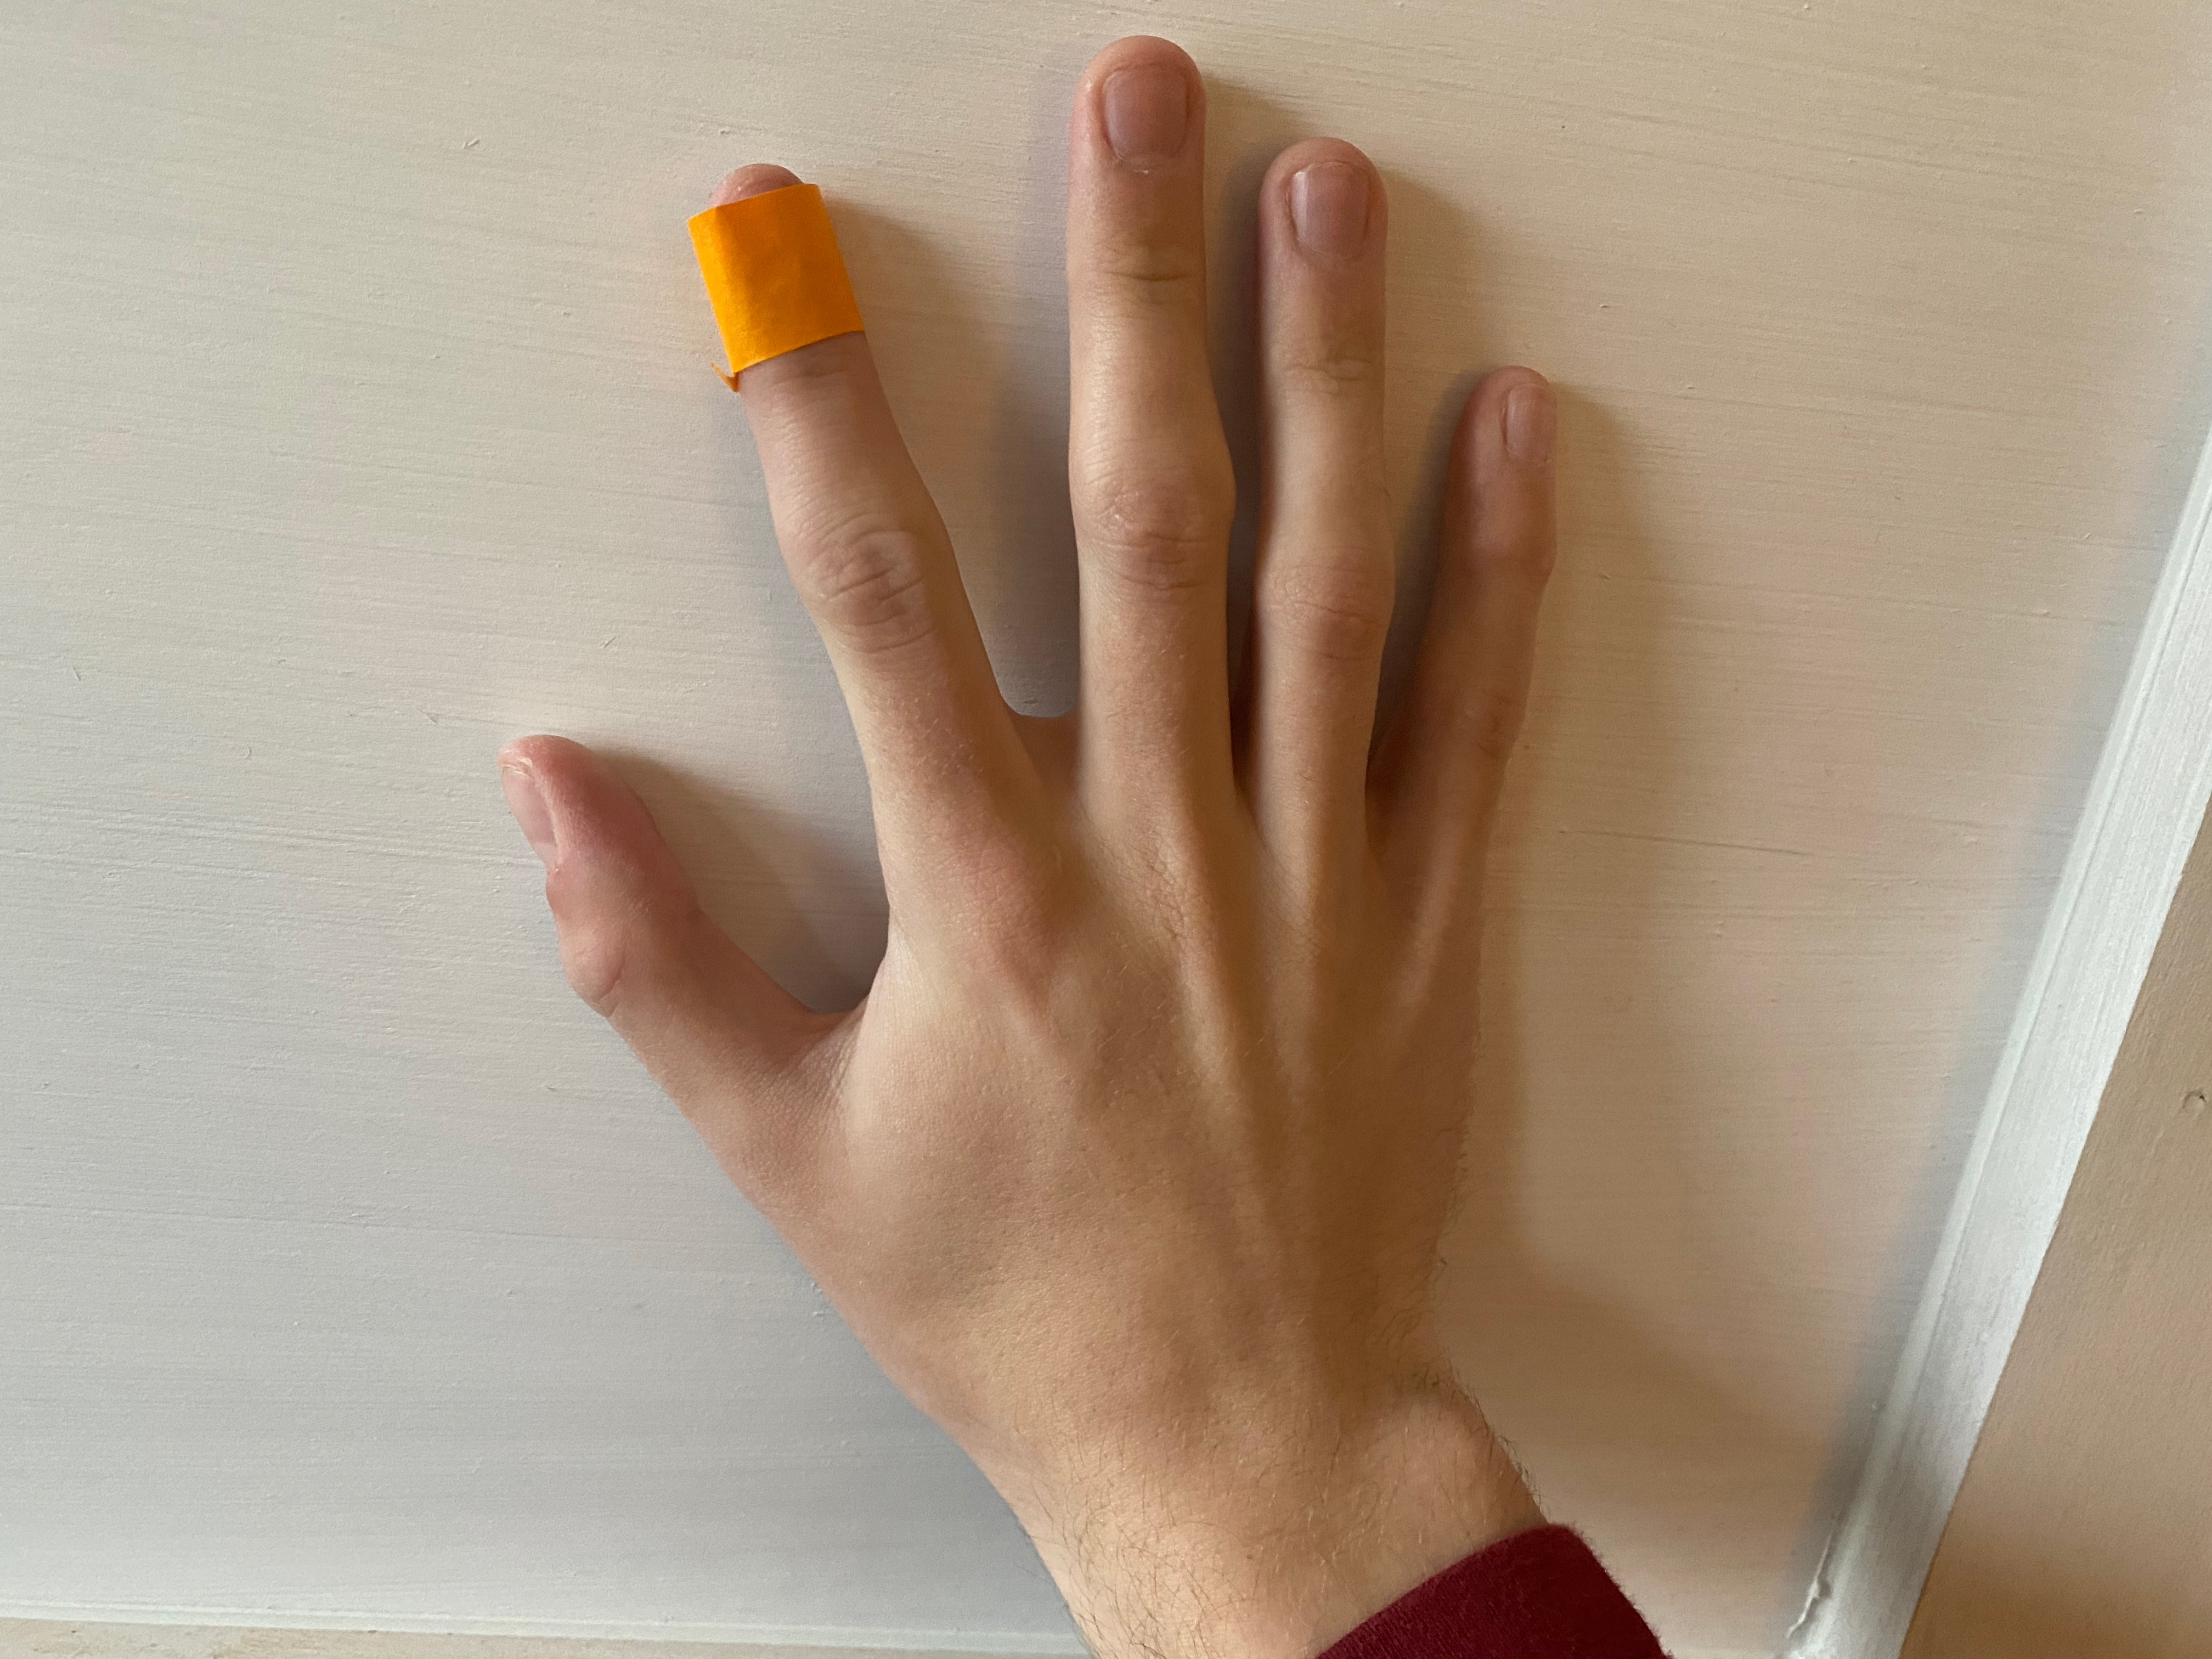fingertip: (667, 146, 913, 408)
